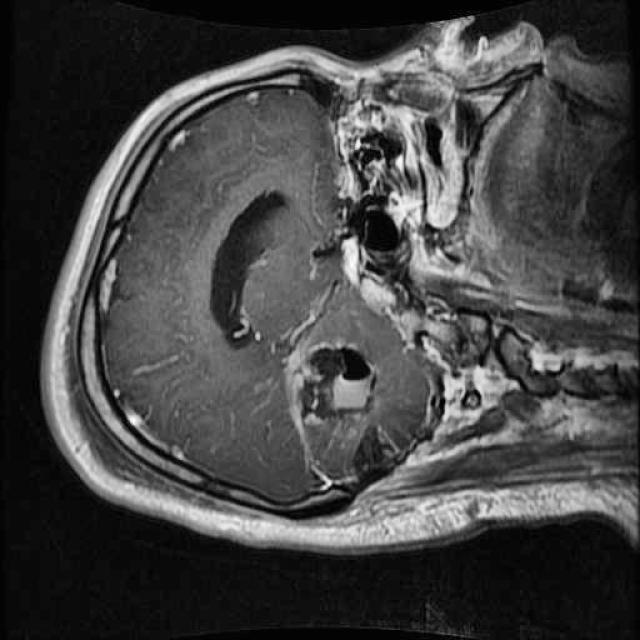Tumor: (270, 323, 400, 465)
